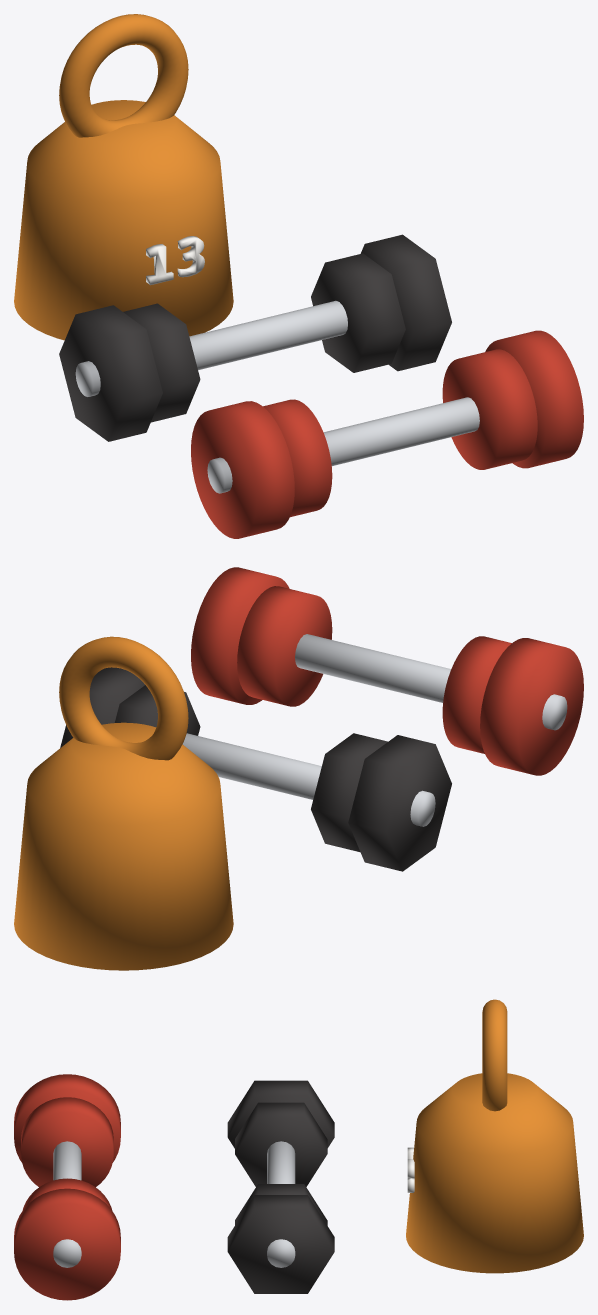
The model's file is exercise-weights.glb.
3 renders of one model, top to bottom at view 1: azimuth 30°, elevation 25°; view 2: azimuth 150°, elevation 25°; view 3: azimuth 270°, elevation 25°, orthographic. The views are drawn at different scales.
Parts seen in each view (by area): view 1: part10, part6, part1, part0, part12; view 2: part10, part6, part1, part0; view 3: part10, part6, part1, part0.
Boxes of the visible parts, box(x1,y1,x2,y2) form: part10: box(14, 14, 233, 340); part6: box(191, 330, 583, 538); part1: box(59, 234, 451, 441); part0: box(75, 300, 479, 493); part12: box(146, 236, 204, 285); part10: box(14, 636, 233, 970); part6: box(191, 567, 583, 775); part1: box(60, 667, 451, 871); part0: box(182, 634, 567, 826); part10: box(406, 999, 583, 1273); part6: box(14, 1074, 120, 1300); part1: box(227, 1080, 334, 1293); part0: box(53, 1141, 295, 1267).
Size of the model in its own units: 0.5625 by 0.4469 by 1.
